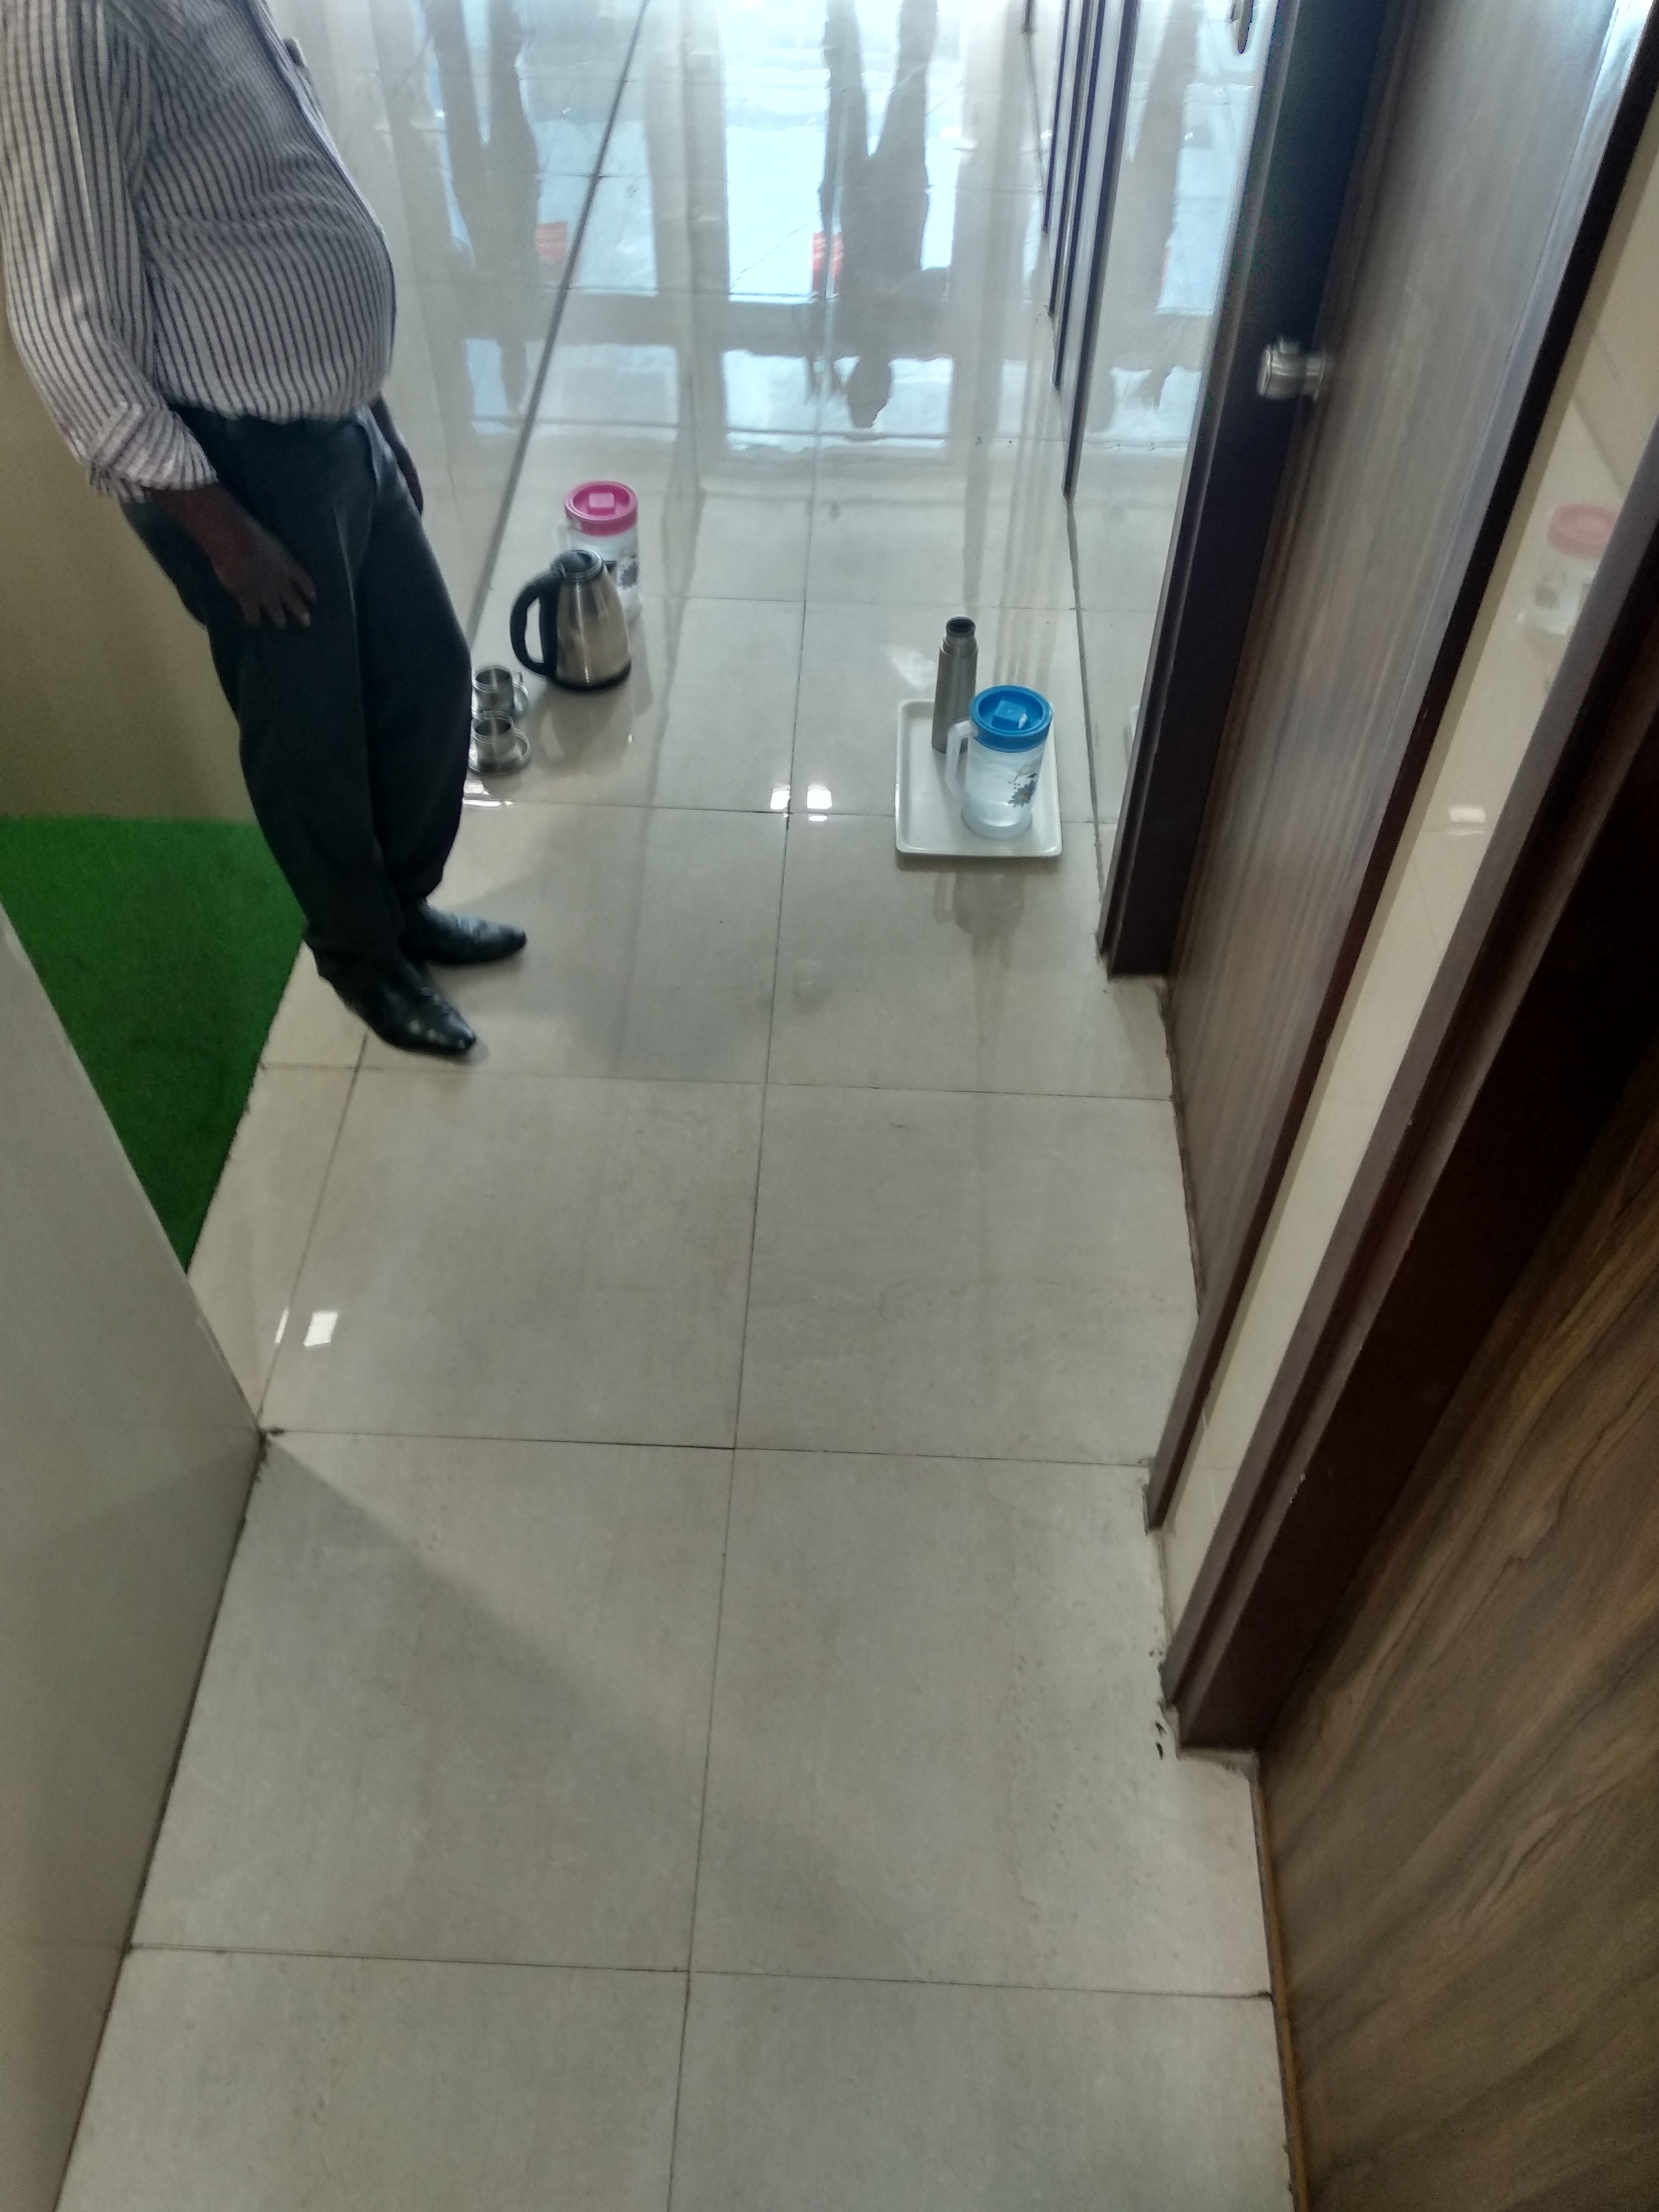CUP: (472, 716, 533, 770), (471, 664, 528, 716)
FLASK: (917, 608, 974, 761)
JUG: (511, 538, 648, 697), (946, 679, 1054, 845), (559, 474, 653, 540)
